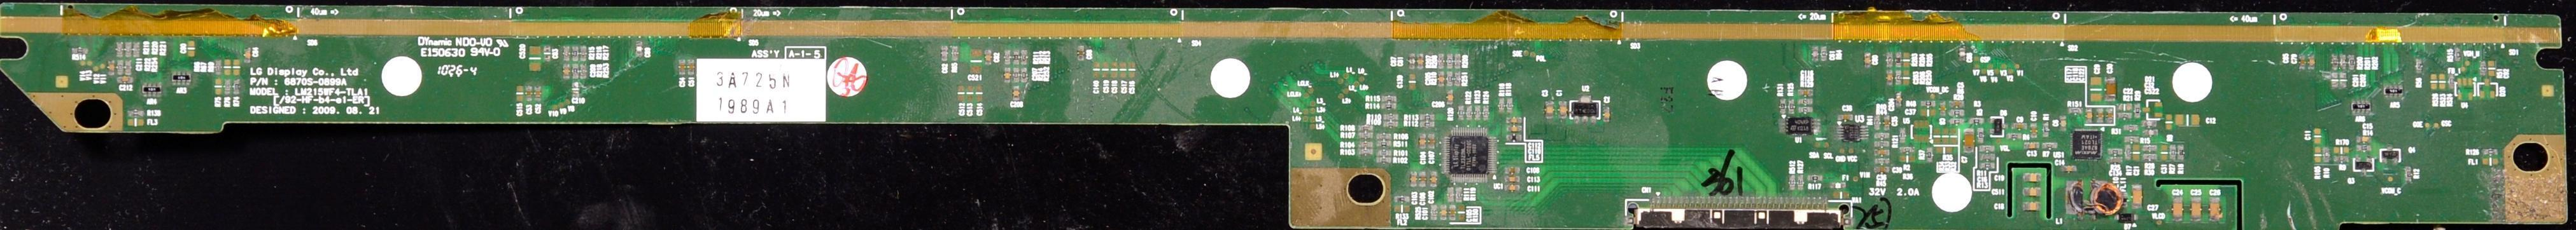Capacitor: (528, 45, 543, 72), (969, 48, 983, 76), (2176, 114, 2200, 127), (2209, 198, 2221, 222), (2090, 77, 2102, 102), (2131, 184, 2143, 209), (2105, 78, 2116, 102), (1964, 128, 1974, 153), (2173, 197, 2183, 222), (2190, 197, 2202, 219), (956, 83, 966, 102), (560, 64, 572, 80), (525, 84, 534, 104), (940, 43, 949, 63), (1120, 62, 1129, 80), (241, 48, 253, 64), (677, 58, 687, 76), (116, 74, 134, 83), (1545, 101, 1554, 119), (2023, 201, 2041, 211), (1110, 63, 1120, 80), (1091, 61, 1101, 77), (2024, 173, 2042, 182), (1978, 154, 1997, 162), (107, 61, 117, 76), (1003, 66, 1011, 83), (516, 86, 524, 103), (2023, 188, 2041, 197), (968, 83, 976, 102), (1559, 100, 1567, 119), (2339, 72, 2347, 90), (2107, 156, 2123, 165), (983, 47, 992, 64), (686, 58, 694, 77), (951, 45, 959, 62), (2116, 104, 2132, 112), (2331, 73, 2339, 90), (2314, 128, 2321, 145), (542, 45, 551, 60), (1011, 87, 1021, 101), (2030, 123, 2038, 139), (2356, 136, 2372, 144), (2060, 165, 2078, 173), (976, 84, 983, 102), (1798, 89, 1813, 97), (1895, 91, 1902, 109), (1408, 74, 1416, 90), (2012, 123, 2028, 130), (2161, 145, 2169, 161), (2299, 55, 2307, 71), (534, 85, 542, 100), (1507, 125, 1522, 133), (2134, 144, 2139, 165), (1873, 166, 1889, 173), (1949, 101, 1966, 108), (1603, 107, 1610, 123), (1077, 47, 1086, 60), (187, 42, 195, 57), (1103, 63, 1110, 79), (1886, 70, 1893, 86), (1446, 90, 1453, 105), (2085, 108, 2092, 124), (1838, 114, 1854, 121), (1430, 172, 1437, 187), (1504, 185, 1520, 192), (1418, 53, 1424, 70), (1939, 101, 1946, 116), (1507, 117, 1523, 124), (2023, 142, 2039, 149), (1505, 168, 1520, 175), (1438, 71, 1444, 87), (1129, 62, 1136, 77), (1411, 172, 1417, 187), (1440, 205, 1447, 221), (2309, 55, 2315, 71), (1419, 173, 1426, 187), (1428, 134, 1435, 149), (1449, 205, 1456, 220), (1864, 52, 1871, 67), (1505, 176, 1519, 182), (1409, 54, 1414, 70), (1419, 134, 1425, 149)
IC: (1441, 126, 1496, 182), (2071, 129, 2103, 161), (1570, 98, 1599, 122)
Resistor: (127, 107, 146, 119), (2122, 133, 2141, 145), (1472, 105, 1483, 124), (2107, 144, 2123, 157), (1395, 194, 1412, 206), (2480, 147, 2500, 157), (2141, 128, 2160, 138), (570, 62, 581, 79), (222, 79, 232, 97), (232, 76, 240, 98), (2041, 141, 2060, 151), (223, 58, 234, 76), (1456, 104, 1467, 122), (1356, 147, 1375, 156), (1418, 119, 1438, 128), (2121, 123, 2141, 132), (2143, 150, 2158, 161), (2041, 121, 2050, 140), (1798, 174, 1806, 193), (1505, 95, 1515, 112), (1780, 96, 1788, 116), (2068, 106, 2085, 116), (2356, 143, 2372, 153), (1873, 140, 1892, 149), (1381, 94, 1398, 104), (1920, 99, 1937, 109), (1018, 48, 1027, 67), (2132, 101, 2141, 119), (1447, 186, 1456, 204), (1380, 112, 1399, 121), (1979, 145, 1999, 153), (2124, 145, 2134, 161), (2414, 59, 2423, 76), (580, 64, 589, 81), (1013, 66, 1022, 83), (2007, 132, 2024, 141), (1978, 161, 1995, 170), (1381, 102, 1399, 111), (2324, 146, 2332, 165), (1003, 49, 1011, 67), (130, 42, 140, 58), (561, 45, 571, 61), (232, 58, 241, 76), (1977, 126, 1985, 144), (125, 59, 132, 78), (1496, 97, 1506, 112), (115, 41, 124, 57), (2437, 73, 2446, 90), (1787, 97, 1796, 114), (1382, 119, 1399, 127), (1949, 107, 1965, 116), (1377, 132, 1393, 140), (1377, 155, 1393, 164), (1790, 173, 1799, 189), (636, 41, 645, 57), (572, 44, 581, 60), (1011, 49, 1020, 65), (1436, 53, 1445, 69), (215, 78, 223, 96), (2332, 145, 2350, 153), (1359, 139, 1374, 149), (2314, 147, 2323, 162), (72, 46, 87, 55), (1465, 105, 1472, 125), (1377, 147, 1394, 155), (2170, 145, 2178, 162), (1454, 71, 1463, 86), (1798, 96, 1815, 104), (2405, 165, 2412, 183), (1807, 173, 1823, 181), (122, 41, 129, 58), (1454, 53, 1461, 70), (1446, 53, 1453, 71), (579, 45, 589, 58), (1969, 116, 1985, 125), (1950, 117, 1966, 125), (1358, 125, 1374, 132), (1873, 132, 1890, 139), (2176, 145, 2185, 160), (2333, 155, 2348, 163), (1455, 186, 1463, 203), (1430, 204, 1438, 220), (1896, 52, 1903, 69), (1903, 52, 1911, 67), (2349, 55, 2356, 72), (1378, 139, 1392, 148), (2480, 60, 2488, 76), (216, 58, 223, 75), (2143, 144, 2160, 151), (1022, 66, 1028, 85), (1925, 147, 1933, 161), (2340, 53, 2347, 71), (1799, 105, 1814, 113), (1447, 71, 1454, 86), (1481, 105, 1488, 121), (1875, 158, 1892, 164), (1422, 112, 1435, 120), (1896, 71, 1903, 86), (116, 60, 124, 73), (1903, 71, 1911, 85), (1357, 133, 1374, 139), (2431, 74, 2436, 93), (2329, 55, 2337, 66), (1874, 116, 1881, 129), (1887, 53, 1894, 67), (2454, 48, 2461, 62)
Transistor: (2379, 147, 2400, 165), (2354, 156, 2375, 172)
